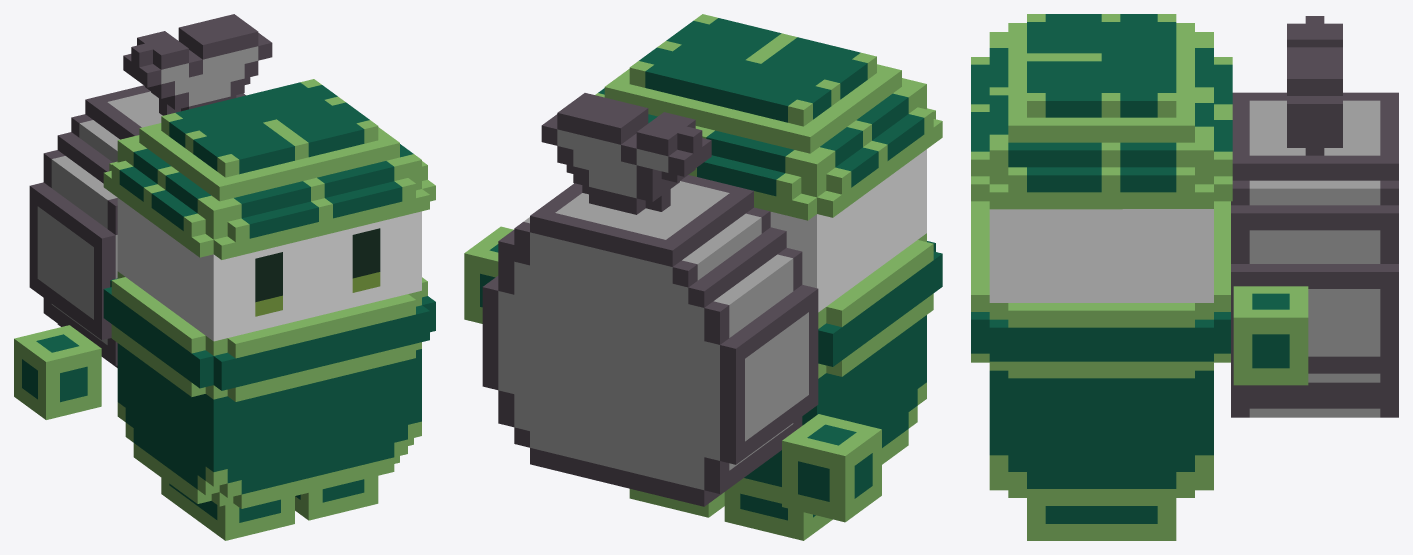
Rendered from p2TrashDizzy.gltf.
3 renders of one model, left to right at view 1: azimuth 30°, elevation 25°; view 2: azimuth 150°, elevation 25°; view 3: azimuth 270°, elevation 25°, orthographic. The views are drawn at different scales.
Visible parts, largest first — view 1: Yup2Zup.001; view 2: Yup2Zup.001; view 3: Yup2Zup.001.
Boxes of the visible parts, x1=… form: Yup2Zup.001: x1=14, y1=14, x2=435, y2=540; Yup2Zup.001: x1=464, y1=14, x2=942, y2=540; Yup2Zup.001: x1=971, y1=14, x2=1398, y2=540.
Size of the model in its own units: 2.4 by 2.7 by 2.29.
Materials: 4 (4 with a texture image).
